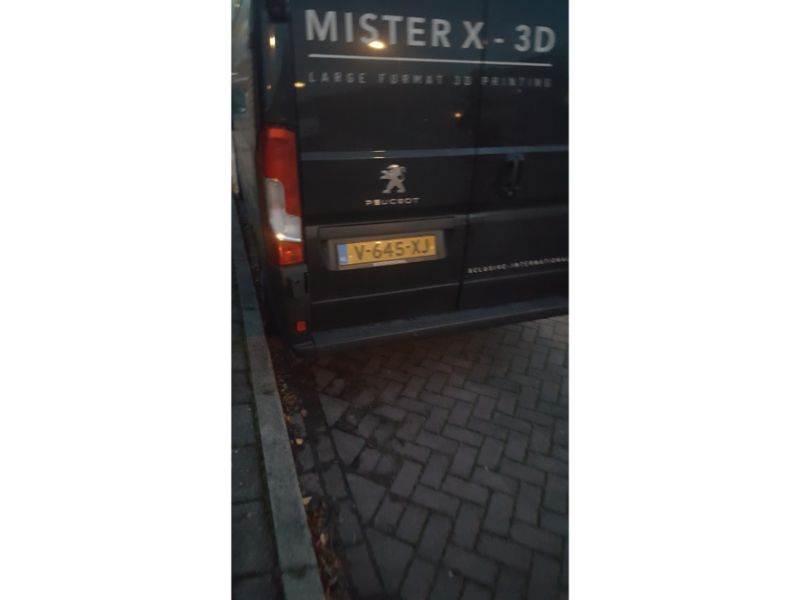kenteken: (337, 228, 443, 267)
